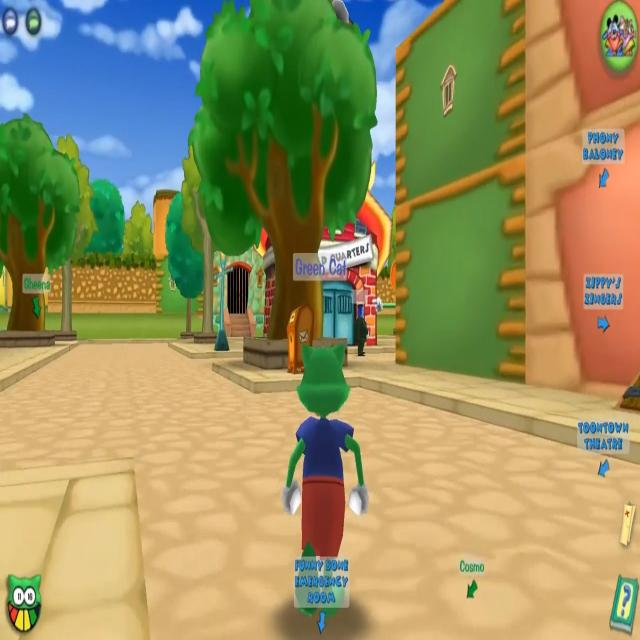shortchange: (342, 248, 378, 358)
